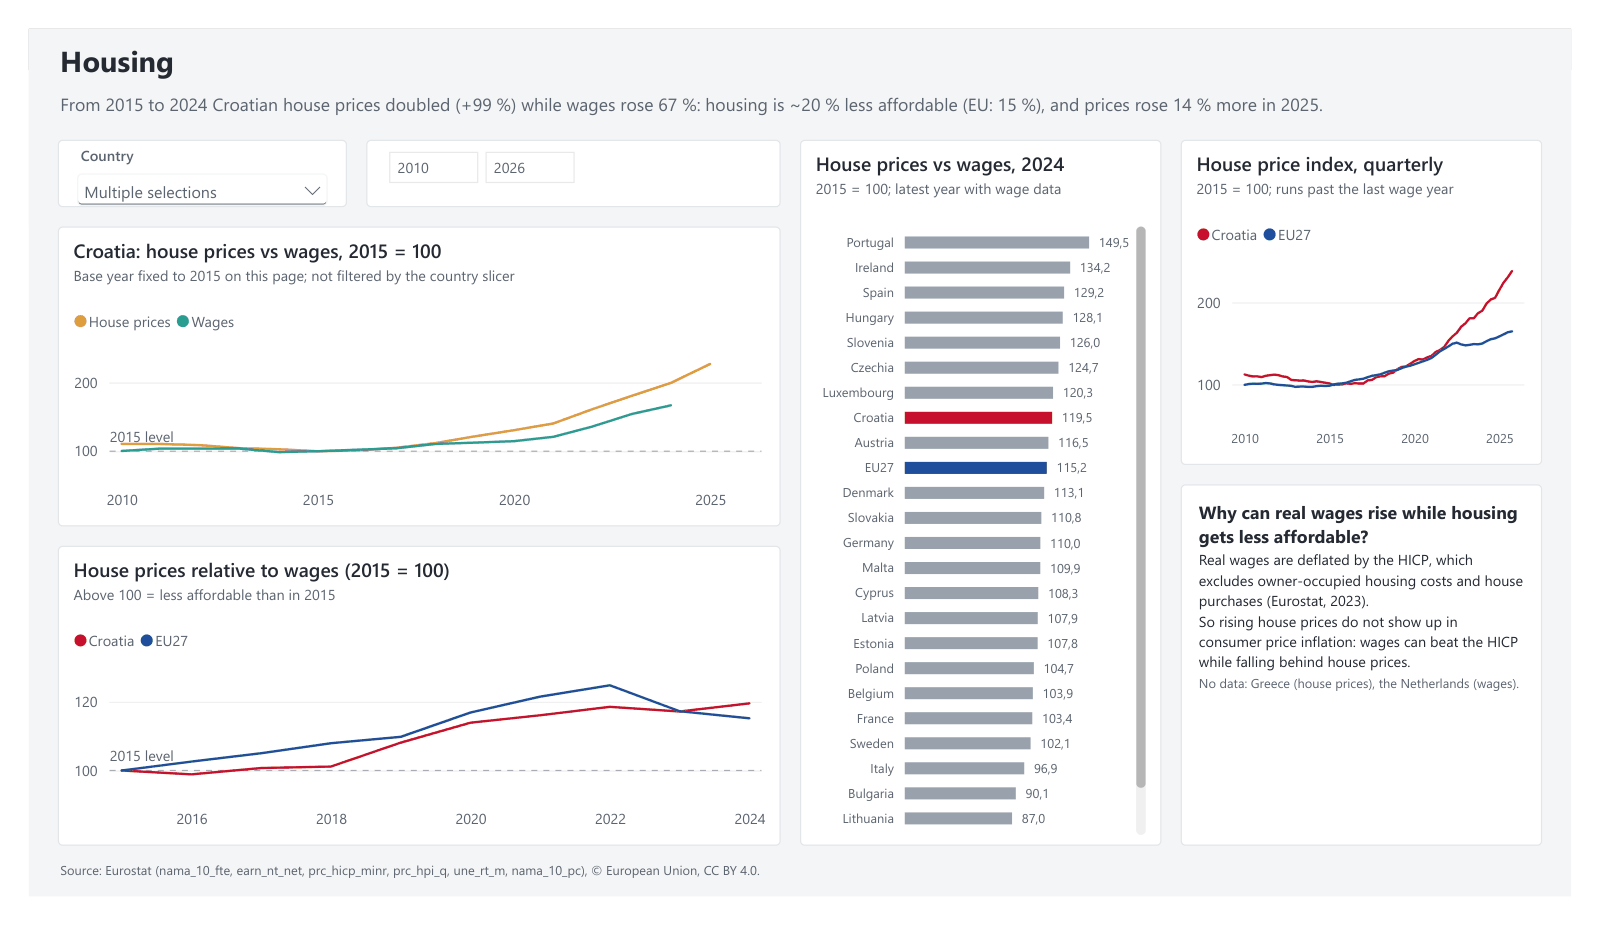

The dashboard page shown, as its layout file describes it:
{"tool":"powerbi","page":{"name":"Housing","canvas":[1280,720],"ordinal":3},"visuals":[{"type":"textbox","box":[24,10,1232,40],"z":1000},{"type":"textbox","box":[24,52,1232,30],"z":2000},{"type":"slicer","fields":{"Values":["bi_dim_country.country_short_name"]},"box":[24,92,240,56],"z":3000},{"type":"slicer","fields":{"Values":["bi_dim_year.year"]},"box":[280,92,344,56],"z":4000},{"type":"lineChart","title":"Croatia: house prices vs wages, 2015 = 100","fields":{"Category":["bi_dim_year.year"],"Y":["_Measures.House Price Index (Base Year)","_Measures.Wage Index (Base Year)"]},"box":[24,164,600,249],"z":5000},{"type":"lineChart","title":"House prices relative to wages (2015 = 100)","fields":{"Category":["bi_dim_year.year"],"Y":["_Measures.Housing Affordability Ratio"],"Series":["bi_dim_country.country_short_name"]},"box":[24,429,600,249],"z":6000},{"type":"clusteredBarChart","title":"House prices vs wages, 2024","fields":{"Category":["bi_dim_country.country_short_name"],"Y":["_Measures.Housing Affordability Ratio"]},"box":[640,92,300,586],"z":7000},{"type":"lineChart","title":"House price index, quarterly","fields":{"Category":["v_observations.period_date"],"Y":["_Measures.Period Value"],"Series":["bi_dim_country.country_short_name"]},"box":[956,92,300,270],"z":8000},{"type":"textbox","box":[956,378,300,300],"z":9000},{"type":"textbox","box":[24,688,1232,24],"z":10000}]}

Visuals, with their boxes in screenshot pixels (x1, y1, x2, y2), scaled from the page's 1280x720 canvas onto the 1600x926 screenshot:
textbox: [left=30, top=13, right=1570, bottom=64]
textbox: [left=30, top=67, right=1570, bottom=105]
slicer - bi_dim_country.country_short_name: [left=30, top=118, right=330, bottom=190]
slicer - bi_dim_year.year: [left=350, top=118, right=780, bottom=190]
"Croatia: house prices vs wages, 2015 = 100" lineChart: [left=30, top=211, right=780, bottom=531]
"House prices relative to wages (2015 = 100)" lineChart: [left=30, top=552, right=780, bottom=872]
"House prices vs wages, 2024" clusteredBarChart: [left=800, top=118, right=1175, bottom=872]
"House price index, quarterly" lineChart: [left=1195, top=118, right=1570, bottom=466]
textbox: [left=1195, top=486, right=1570, bottom=872]
textbox: [left=30, top=885, right=1570, bottom=916]
